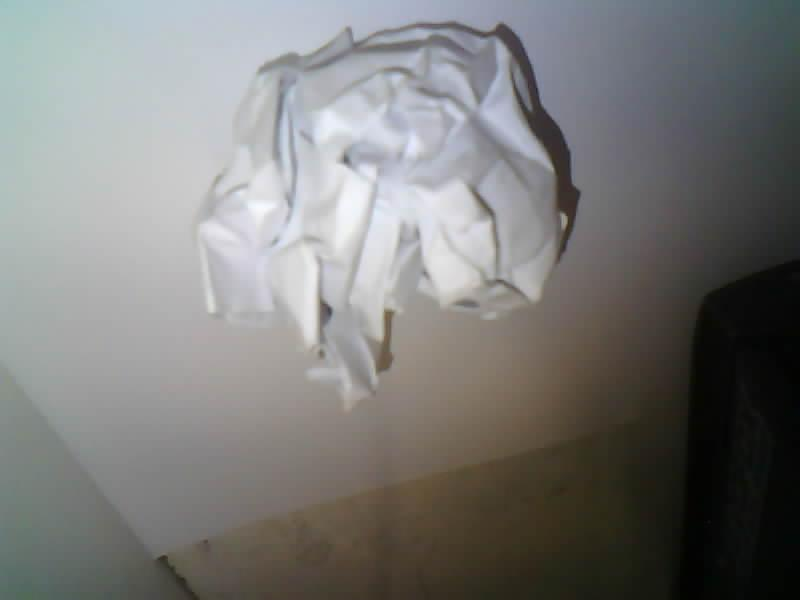biodegradable: (196, 26, 566, 406)
